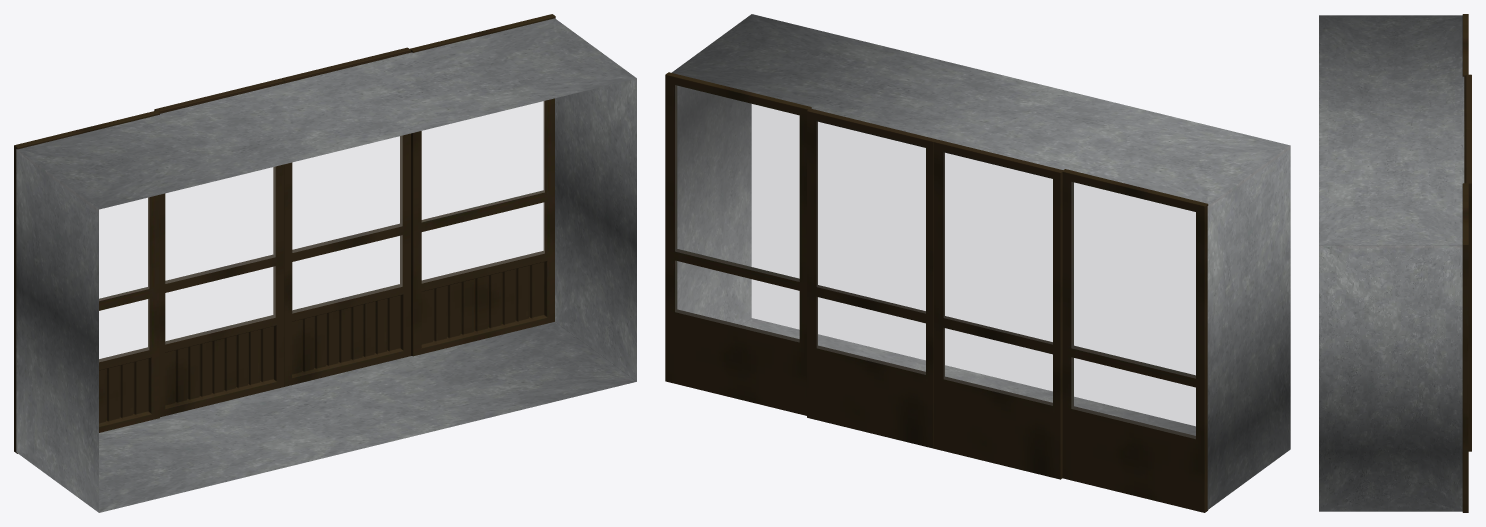
File: Room-transformed.glb
3 renders of one model, left to right at view 1: azimuth 30°, elevation 25°; view 2: azimuth 150°, elevation 25°; view 3: azimuth 270°, elevation 25°, orthographic. The views are drawn at different scales.
Parts seen in each view (by area): view 1: Cube, door frame (×2), door frame.001 (×2), top mirror (×2), top mirror.001 (×2), bottom mirro (×2), bottom mirro.001 (×2); view 2: Cube, top mirror.001 (×2), door frame.001 (×2), top mirror (×2), door frame (×2), bottom mirro.001 (×2), bottom mirro (×2); view 3: Cube, door frame.001 (×2), door frame (×2).
Part boxes in pixels (x1,y1,x2,y2): Cube: (16, 18, 636, 512); door frame (×2): (154, 47, 410, 417); door frame.001 (×2): (14, 14, 555, 453); top mirror (×2): (165, 136, 402, 283); top mirror.001 (×2): (99, 101, 544, 300); bottom mirro (×2): (165, 235, 402, 343); bottom mirro.001 (×2): (99, 202, 544, 361); Cube: (671, 14, 1290, 509); top mirror.001 (×2): (675, 85, 1195, 378); door frame.001 (×2): (665, 72, 1208, 512); top mirror (×2): (817, 122, 1052, 344); door frame (×2): (807, 108, 1062, 479); bottom mirro.001 (×2): (675, 261, 1195, 438); bottom mirro (×2): (817, 297, 1052, 405); Cube: (1319, 15, 1464, 511); door frame.001 (×2): (1462, 14, 1468, 512); door frame (×2): (1466, 74, 1471, 451).
Bounding box in the file's own units: 6.09 × 3.31 × 1.71.
4 materials, 3 textured.
